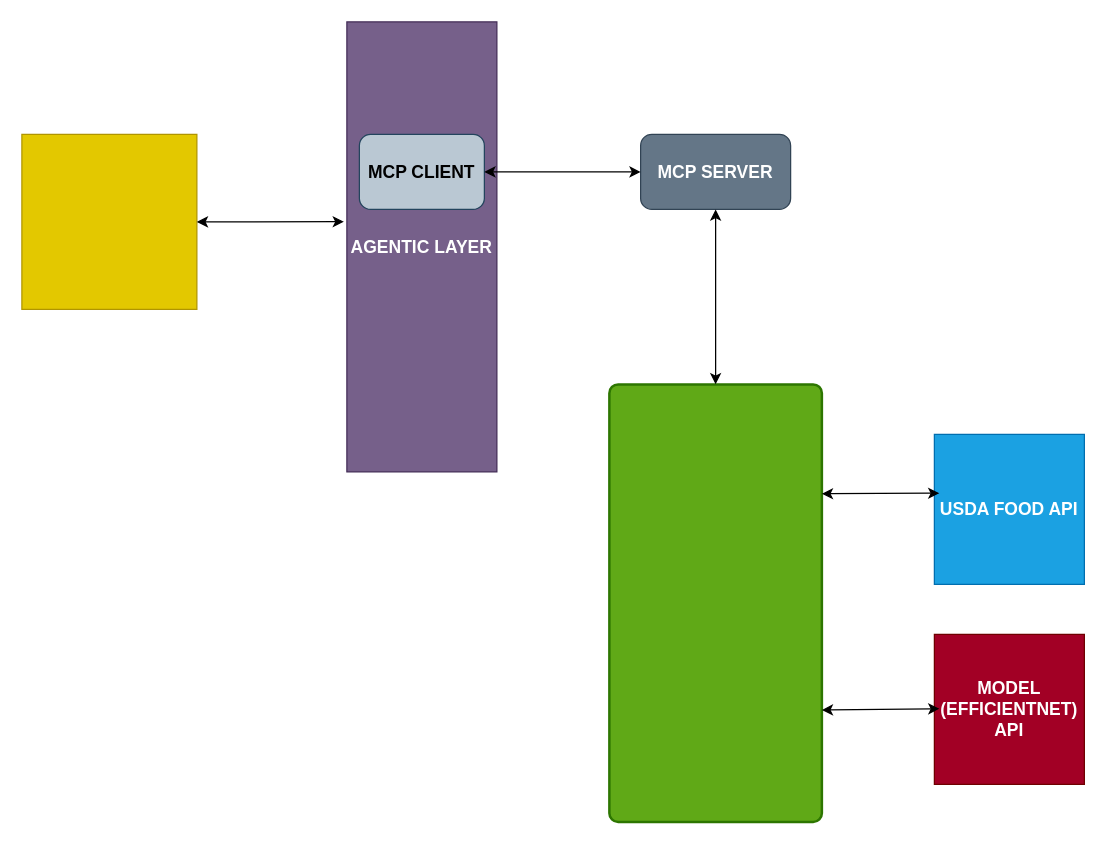
This 1106x845 diagram has some shape labels left out. The centre of each missing label's shape, as x and y in pixels:
BACKEND CALORIE COACH: (x=715, y=602)
FRONT END STREAMLIT: (x=109, y=221)
